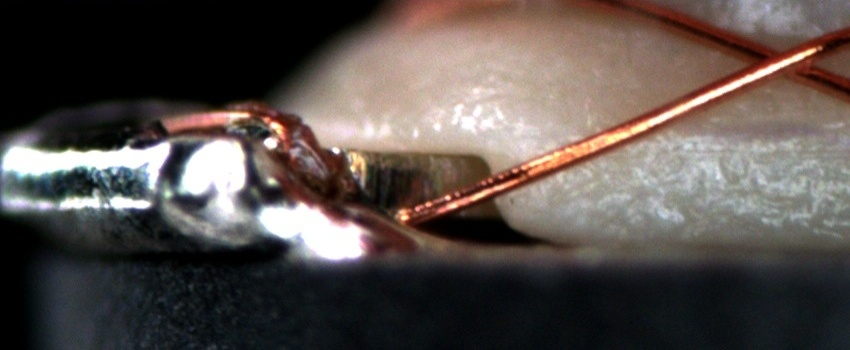CL: (719, 32, 836, 87)
DL: (638, 121, 850, 185)
TE: (156, 96, 332, 180)
